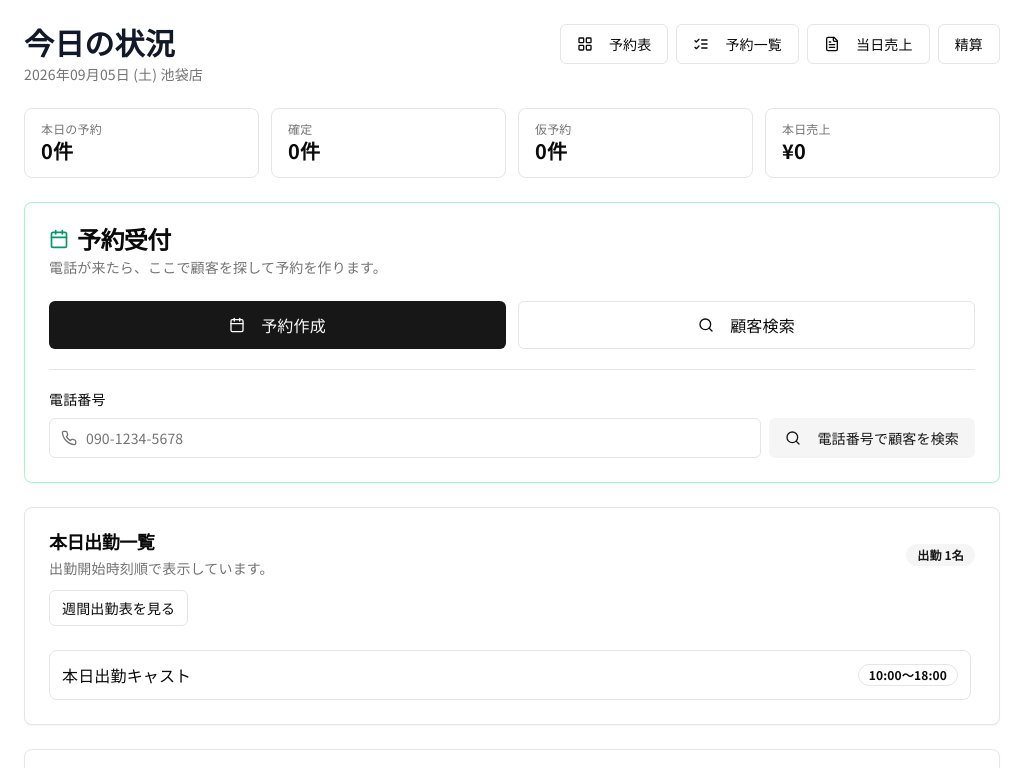
Test: DashboardPage field operations › does not submit a partial phone to the exact customer identity endpoint
Type "090123456" into the field labelled "電話番号".
click(405, 438); type("090123456")  # box [49,418,761,458]
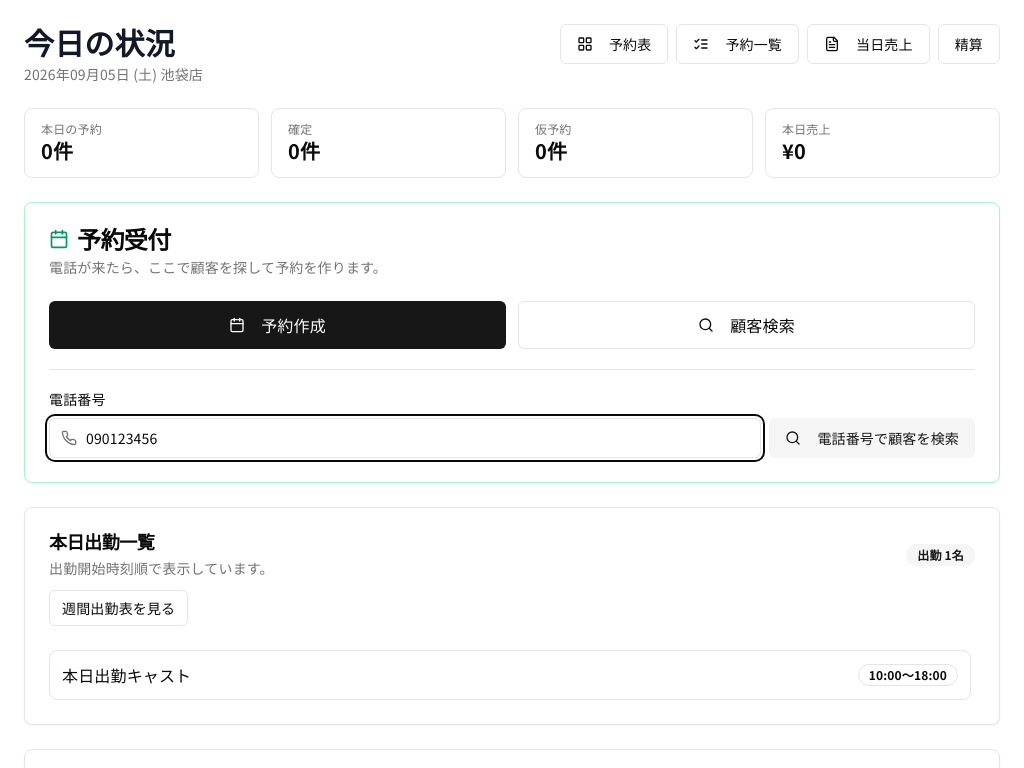
Click the button "電話番号で顧客を検索".
click(872, 438)  # box [769,418,975,458]
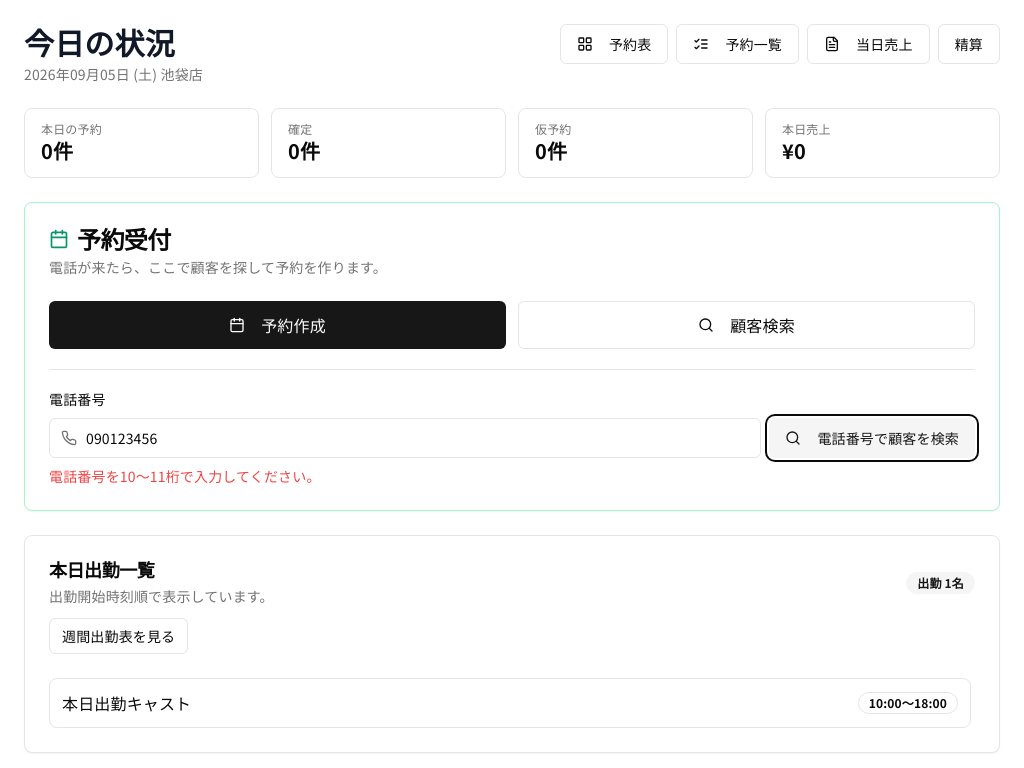
Expected: the message reads "電話番号を10〜11桁で入力してください。", [49,466,321,486]
